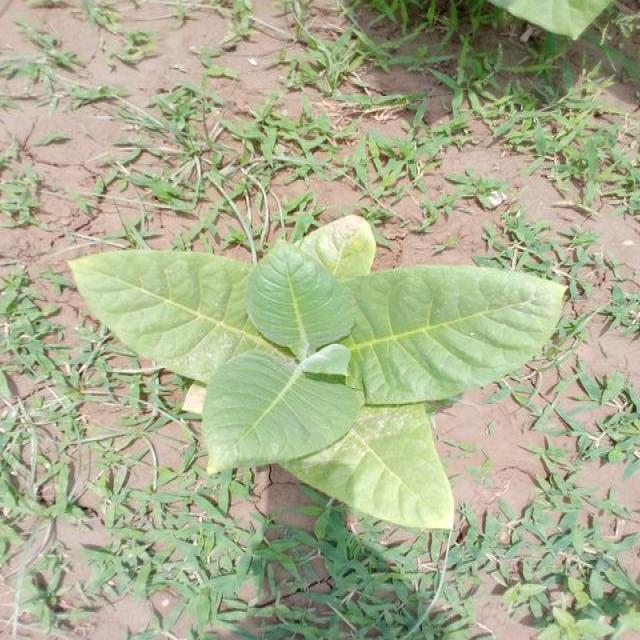crop: (74, 212, 554, 524), (503, 3, 618, 38)
